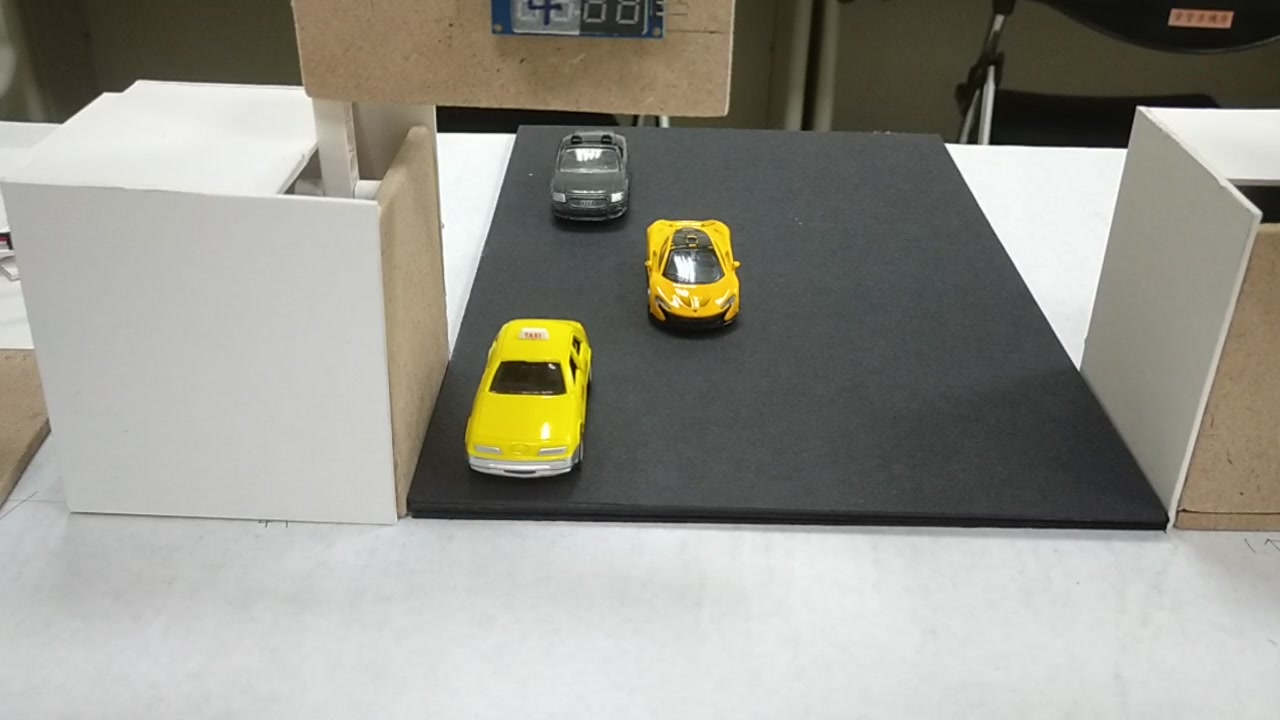car: (470, 324, 593, 474), (648, 217, 740, 330), (551, 129, 628, 221)
